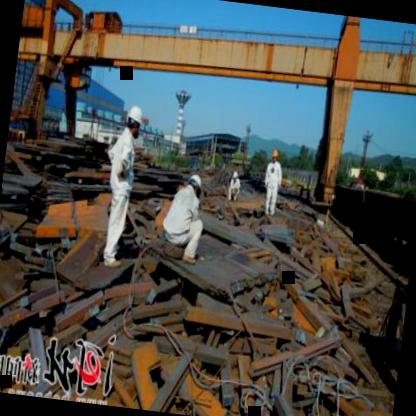helmet: (122, 102, 144, 138), (185, 168, 203, 198), (268, 146, 282, 168)
